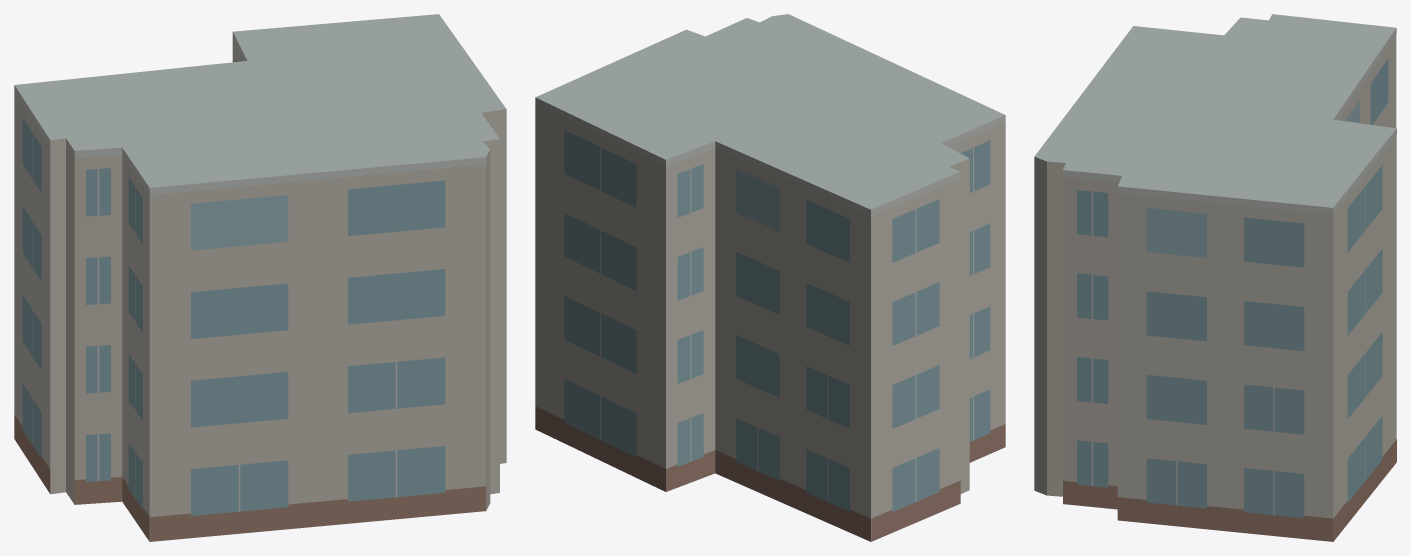
Rendered from survey-upis-32879192.glb.
The picture shows the model from 3 angles, left to right: view 1: azimuth 30°, elevation 25°; view 2: azimuth 150°, elevation 25°; view 3: azimuth 270°, elevation 25°; orthographic projection. The views are drawn at different scales.
Parts seen in each view (by area): view 1: survey-upis-32879192.tmp; view 2: survey-upis-32879192.tmp; view 3: survey-upis-32879192.tmp.
Part boxes in pixels (left/top/right/bottom): survey-upis-32879192.tmp: left=14, top=14, right=506, bottom=541; survey-upis-32879192.tmp: left=535, top=14, right=1005, bottom=541; survey-upis-32879192.tmp: left=1034, top=14, right=1396, bottom=541.
Size of the model in its own units: 14.95 by 12 by 11.81.
